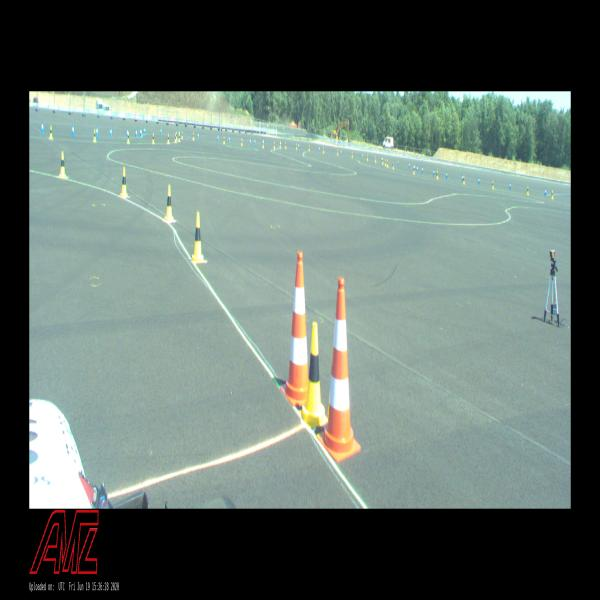blue_cone: (41, 121, 44, 133), (72, 125, 74, 136), (96, 126, 98, 136), (110, 127, 112, 137), (478, 176, 480, 184), (544, 188, 546, 195), (433, 169, 435, 176), (217, 135, 219, 142), (144, 128, 146, 134), (160, 128, 162, 134), (254, 139, 256, 145), (414, 164, 416, 170), (136, 128, 137, 137), (127, 128, 128, 137), (198, 132, 199, 140), (340, 150, 342, 154), (298, 144, 300, 148), (280, 142, 282, 146), (141, 128, 142, 136), (446, 171, 447, 178), (422, 166, 423, 173), (417, 165, 418, 172), (140, 128, 141, 135), (510, 182, 511, 189), (250, 138, 251, 145), (462, 174, 463, 181), (229, 136, 230, 142), (179, 130, 180, 136), (409, 163, 410, 168), (319, 146, 320, 151), (362, 154, 363, 158), (398, 160, 398, 165), (382, 157, 382, 162), (264, 140, 264, 144)
large_orange_cone: (317, 278, 361, 463), (280, 252, 308, 406)
yellow_cone: (299, 323, 328, 426), (192, 213, 204, 262), (165, 185, 173, 222), (120, 167, 128, 198), (59, 152, 66, 178), (49, 125, 53, 139), (93, 129, 96, 142), (152, 133, 155, 144), (127, 132, 130, 143), (167, 134, 170, 144), (178, 132, 180, 142), (436, 170, 438, 179), (174, 134, 176, 143), (463, 175, 465, 184), (492, 180, 494, 188), (527, 186, 529, 194), (223, 137, 225, 144), (181, 132, 183, 139), (392, 162, 394, 169), (262, 141, 264, 148), (285, 142, 287, 149), (279, 142, 281, 148), (274, 142, 276, 148), (413, 167, 415, 173), (351, 152, 353, 157), (552, 190, 553, 199), (241, 138, 242, 146), (193, 132, 194, 140), (176, 132, 177, 140), (385, 159, 386, 166), (387, 160, 388, 167), (296, 144, 297, 150), (375, 156, 376, 162), (382, 158, 383, 164), (337, 150, 338, 156), (367, 155, 368, 161), (323, 148, 324, 154), (309, 146, 310, 150)
